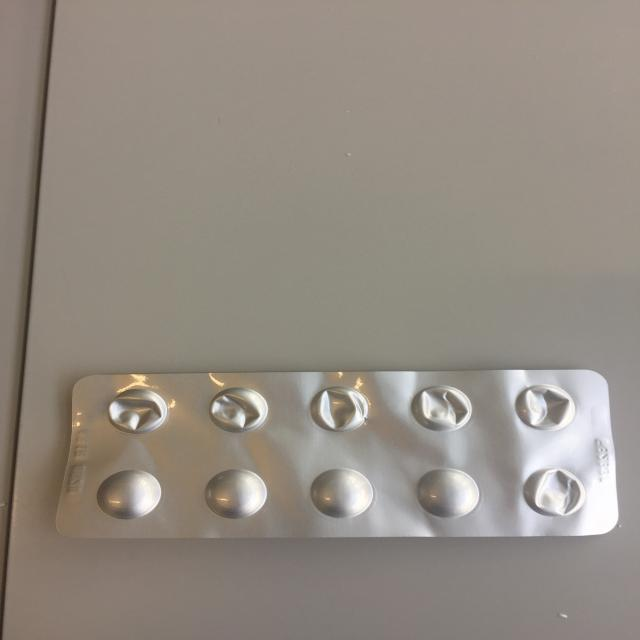Empty: (203, 383, 274, 435), (305, 384, 380, 433), (521, 466, 589, 520), (99, 386, 174, 434), (407, 384, 478, 434), (512, 382, 578, 432)
Pill: (413, 466, 487, 520), (92, 468, 168, 520), (306, 466, 378, 519), (199, 467, 272, 519)
